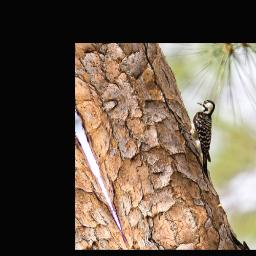Woodpecker: (173, 96, 241, 185)
